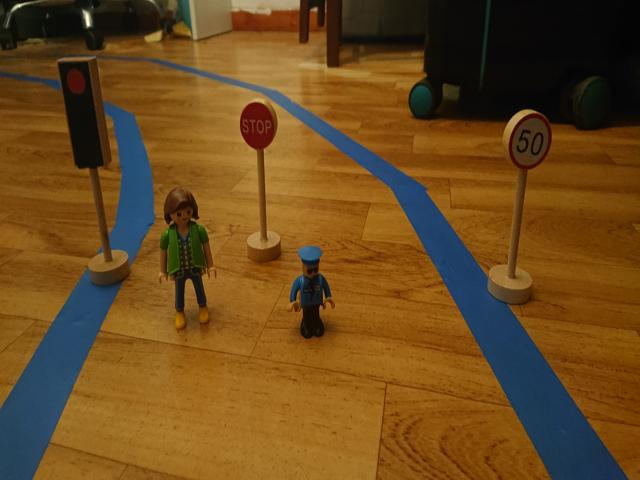50 speed sign: (509, 114, 552, 171)
person: (157, 187, 219, 333), (286, 245, 335, 341)
red light: (62, 65, 94, 158)
stop sign: (239, 103, 275, 149)
